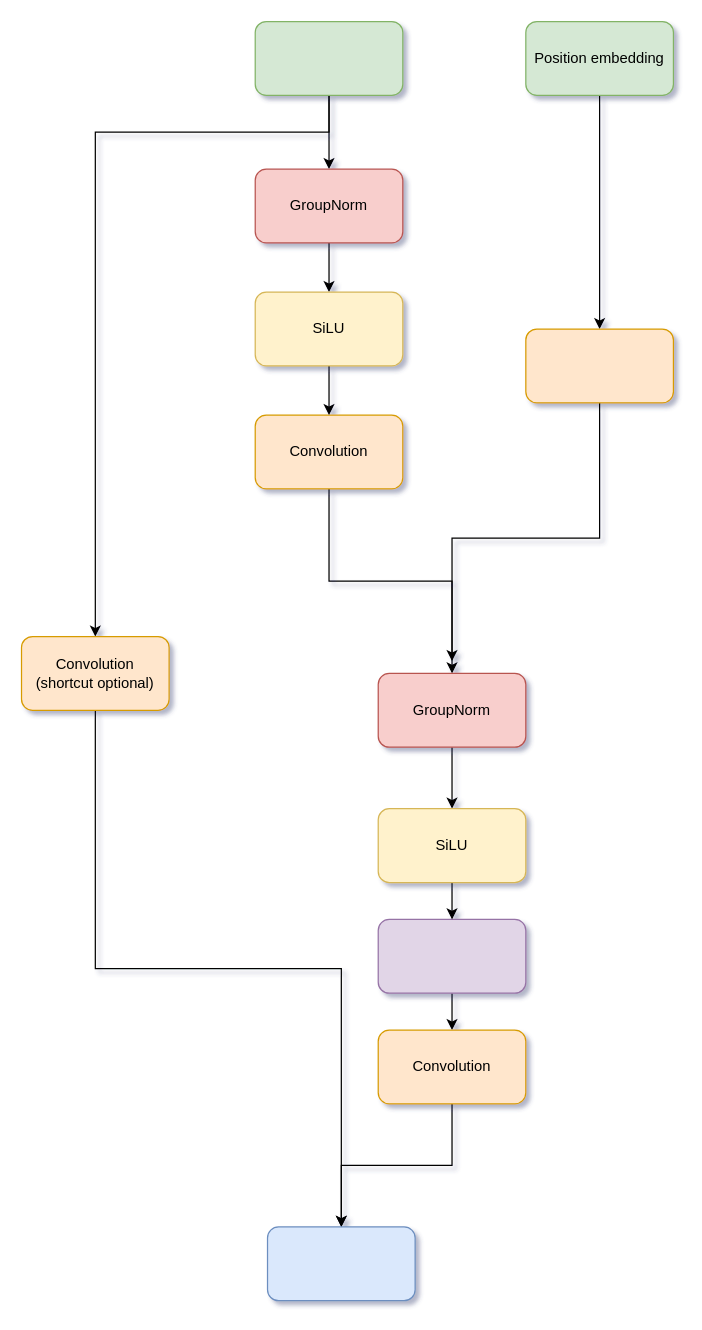
Some shapes in this 702 by 1330 pixel diagram are drawn without their labels. The box of each missing label's shape, as (x1, y1, x2, y2) in pixels:
Dropout: (377, 918, 526, 993)
Input: (254, 20, 403, 95)
Linear: (525, 328, 673, 403)
Output: (266, 1226, 415, 1301)
